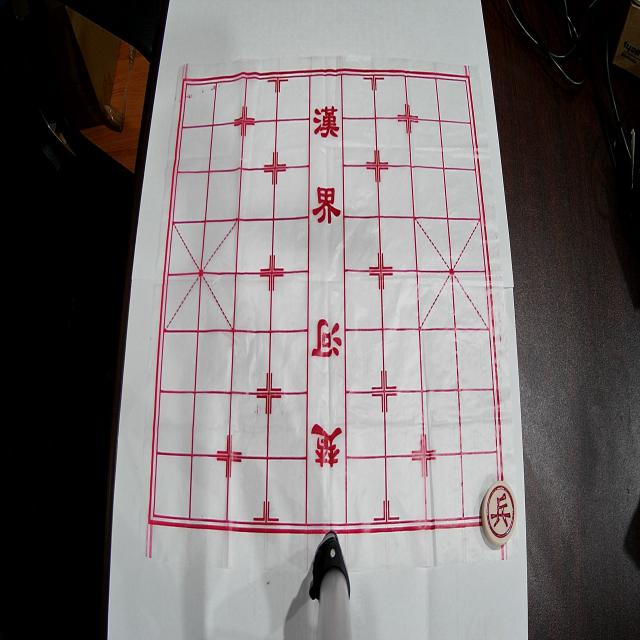red-soldier: (482, 481, 517, 546)
